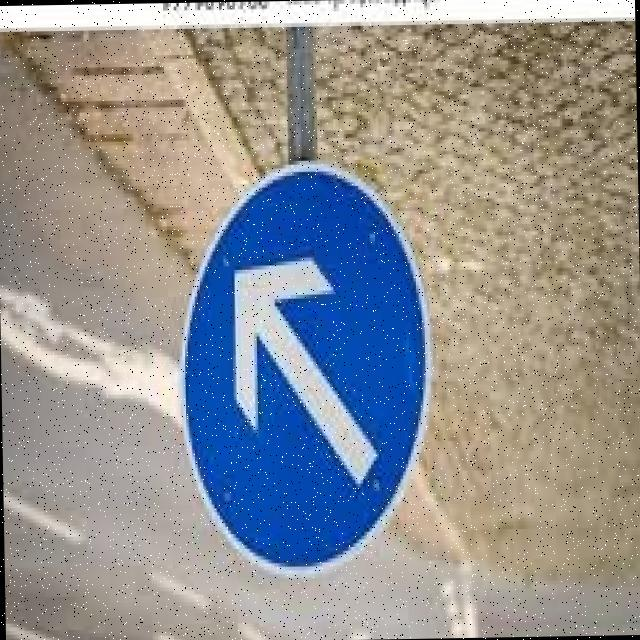compulsory_keep_right: (165, 146, 442, 589)
